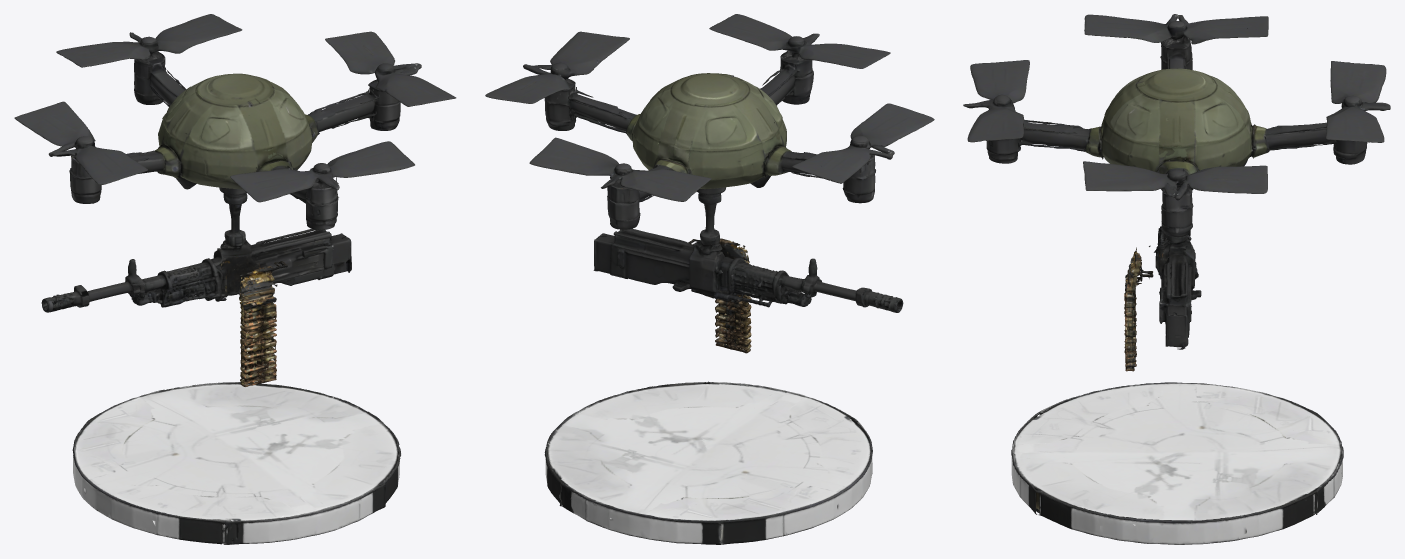
The model's file is Stealth_Guardian.glb.
3 views of the same model, side by side, from view 1: azimuth 30°, elevation 25°; view 2: azimuth 150°, elevation 25°; view 3: azimuth 270°, elevation 25° (orthographic).
Bounding box in the file's own units: 1.98 × 1.97 × 1.93.
1 material, 1 textured.
